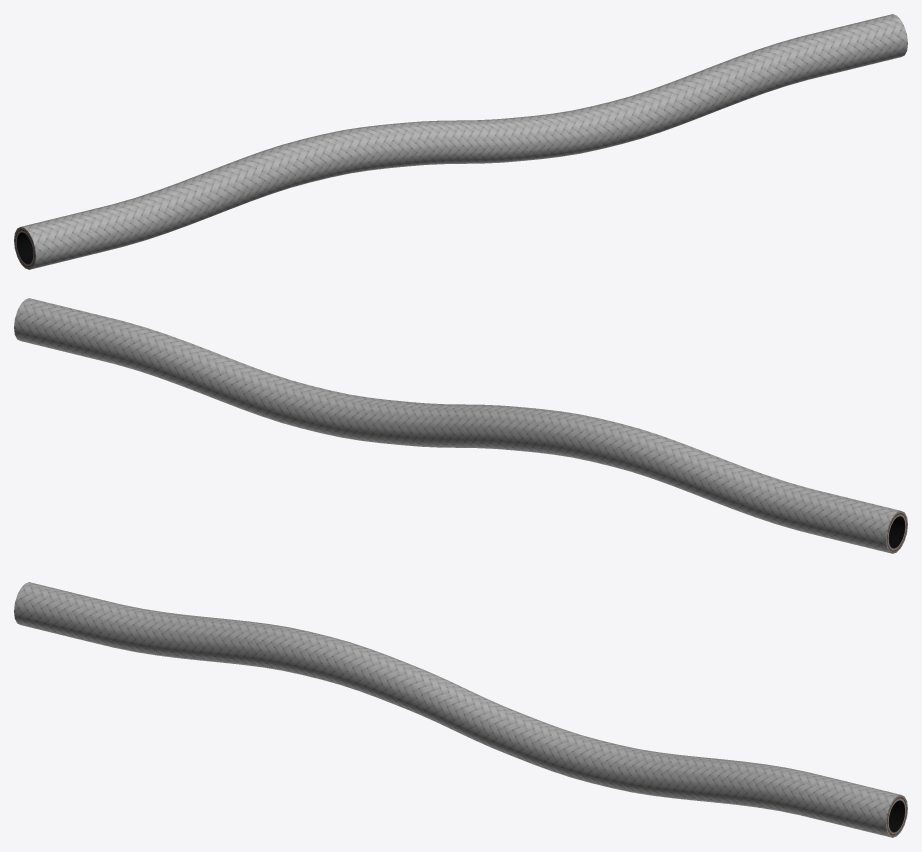
The picture shows the model from 3 angles, top to bottom: view 1: azimuth 30°, elevation 25°; view 2: azimuth 150°, elevation 25°; view 3: azimuth 330°, elevation 25°; orthographic projection.
Visible parts, largest first — view 1: ProBlack_SB_SS-06; view 2: ProBlack_SB_SS-06; view 3: ProBlack_SB_SS-06.
Part boxes in pixels (bbox=[...]): ProBlack_SB_SS-06: bbox=[14, 14, 907, 269]; ProBlack_SB_SS-06: bbox=[14, 298, 907, 553]; ProBlack_SB_SS-06: bbox=[14, 582, 907, 837].
Bounding box in the file's own units: 0.3074 × 0.0262 × 0.0135.
2 materials, 2 textured.
